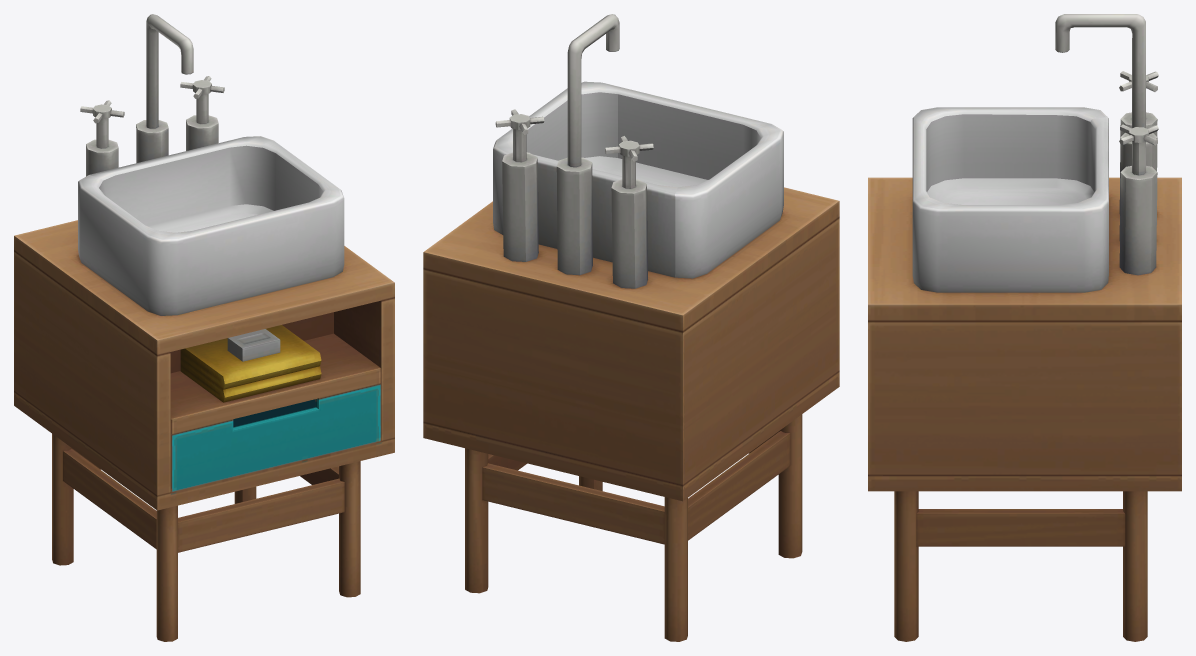
The model's file is TheSinkzBathroomVanity.fbx.
3 views of the same model, side by side, from view 1: azimuth 30°, elevation 25°; view 2: azimuth 150°, elevation 25°; view 3: azimuth 270°, elevation 25° (orthographic). The views are drawn at different scales.
Parts seen in each view (by area): view 1: TinyLiving_TheSinkzBathroomVanity; view 2: TinyLiving_TheSinkzBathroomVanity; view 3: TinyLiving_TheSinkzBathroomVanity.
Boxes of the visible parts, x1,y1,x2,y2 form: TinyLiving_TheSinkzBathroomVanity: [14, 14, 394, 641]; TinyLiving_TheSinkzBathroomVanity: [423, 14, 839, 641]; TinyLiving_TheSinkzBathroomVanity: [868, 14, 1181, 641].
Size of the model in its own units: 65.02 by 137 by 67.93.
